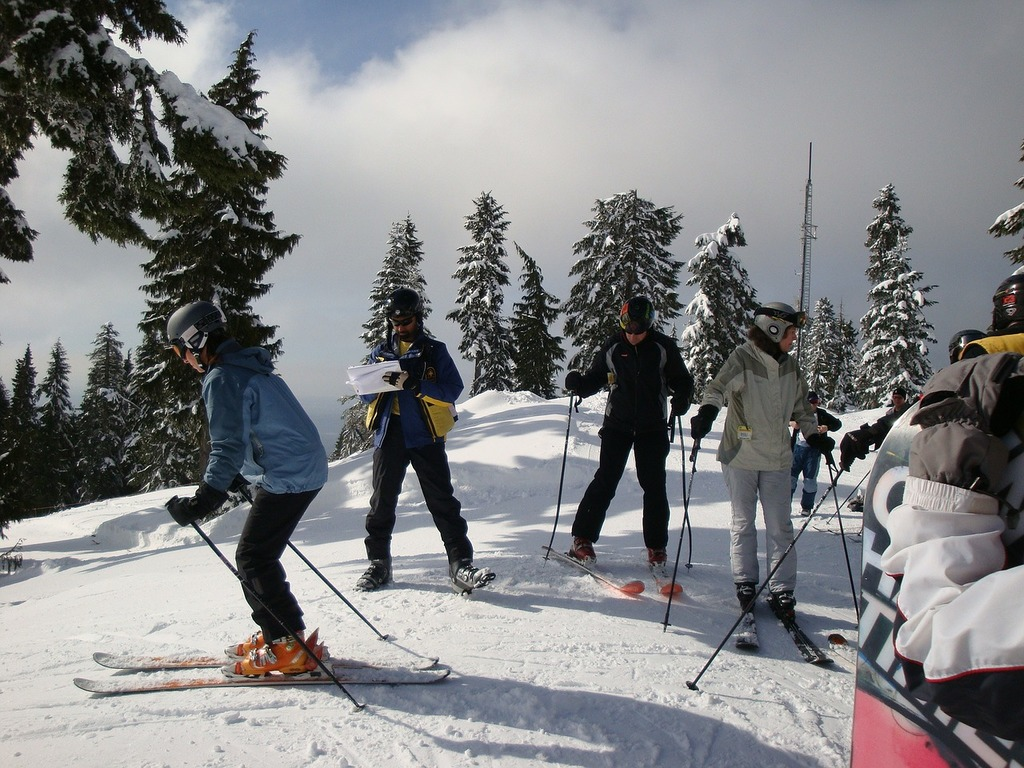skier: (69, 297, 464, 710), (656, 297, 875, 668), (538, 288, 701, 612)
